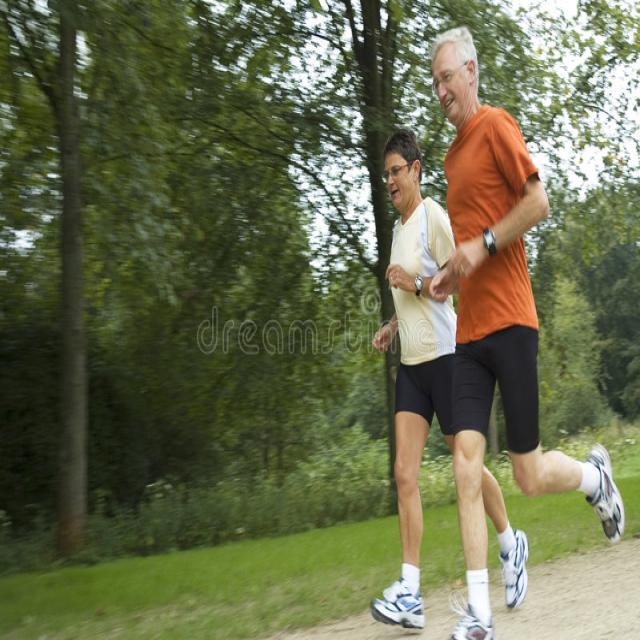running: (433, 27, 633, 640), (366, 127, 459, 640)
